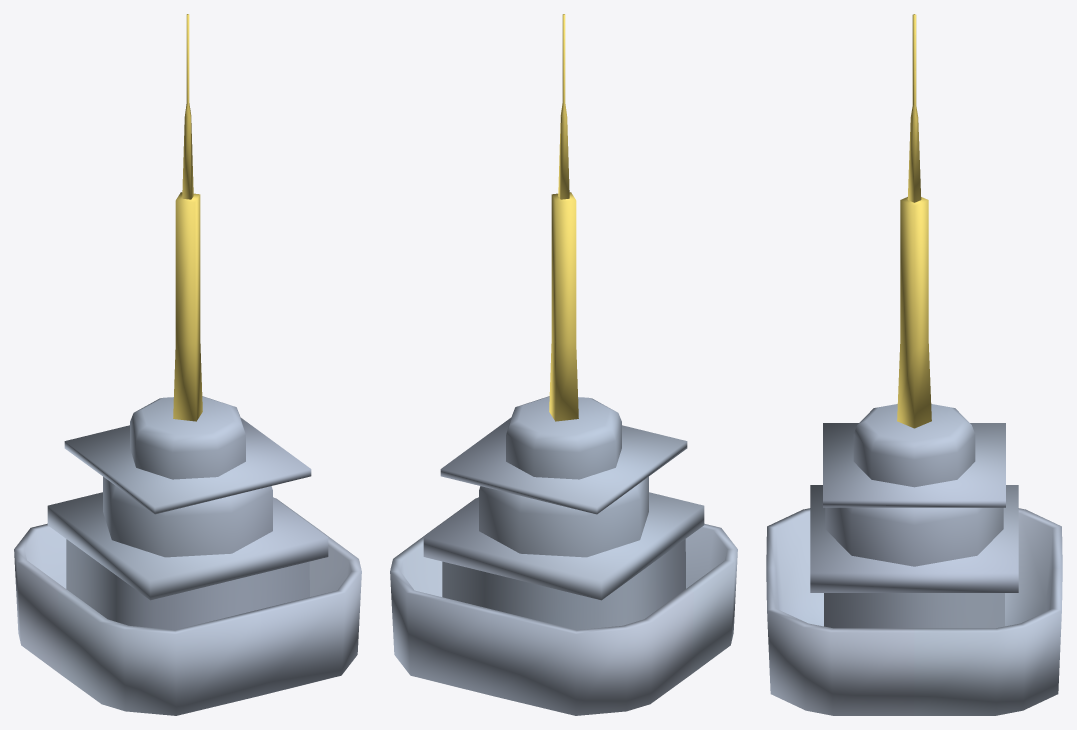
The model's file is dauthap_1.fbx.
The picture shows the model from 3 angles, left to right: view 1: azimuth 30°, elevation 25°; view 2: azimuth 150°, elevation 25°; view 3: azimuth 270°, elevation 25°; orthographic projection.
Parts seen in each view (by area): view 1: dauthap; view 2: dauthap; view 3: dauthap.
Part boxes in pixels (bbox=[...]): dauthap: bbox=[14, 14, 361, 715]; dauthap: bbox=[390, 14, 737, 715]; dauthap: bbox=[766, 14, 1062, 715].
Size of the model in its own units: 362 by 837 by 352.
